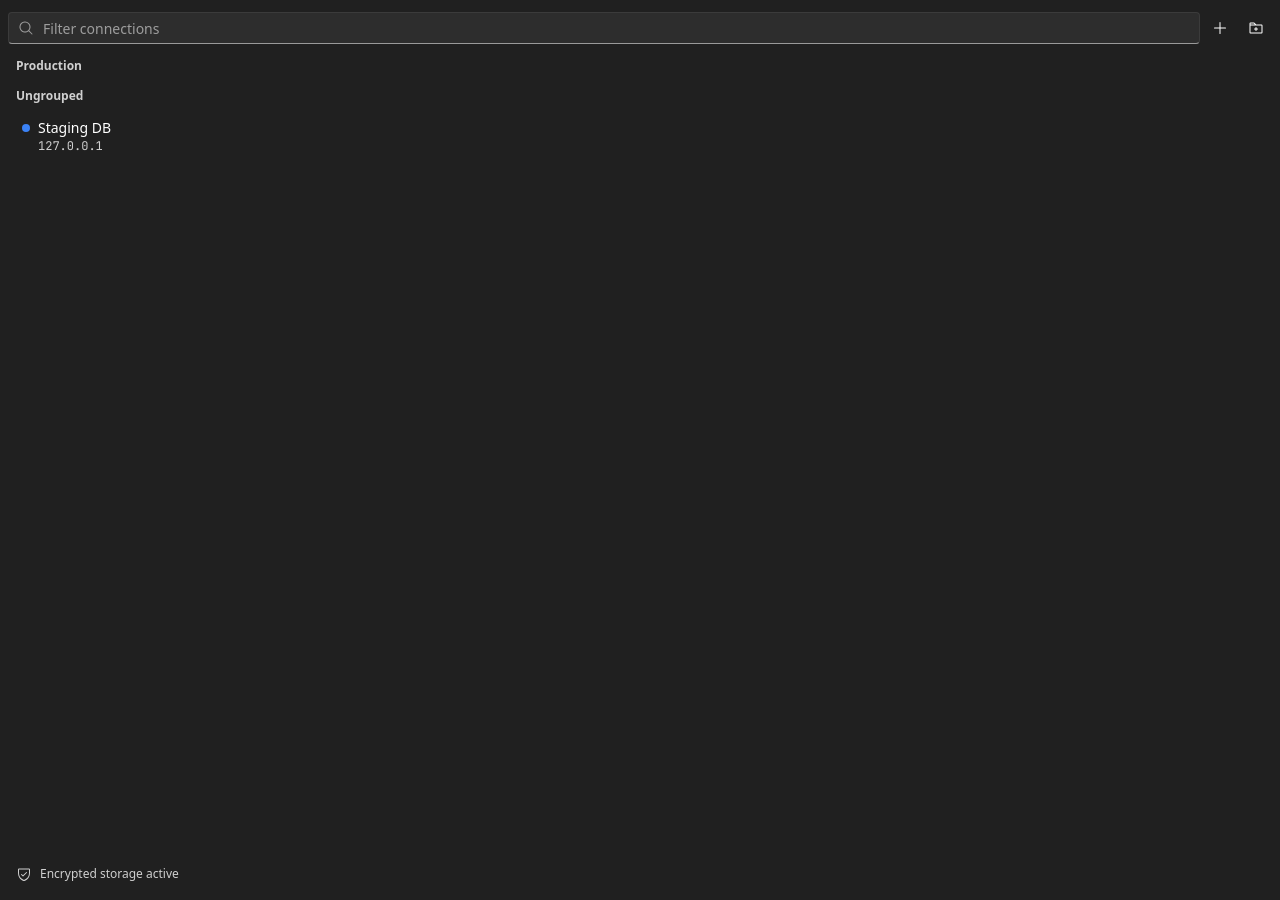
SavedConnectionsList › quick filter › hides empty named groups while filtering
This screenshot has width=1280, height=900.
Expected: the text "Production" is shown, [16, 58, 82, 74]
Type "staging" into the field with test id "connection-filter-input".
click(604, 28); type("staging")  # box [8, 12, 1200, 44]
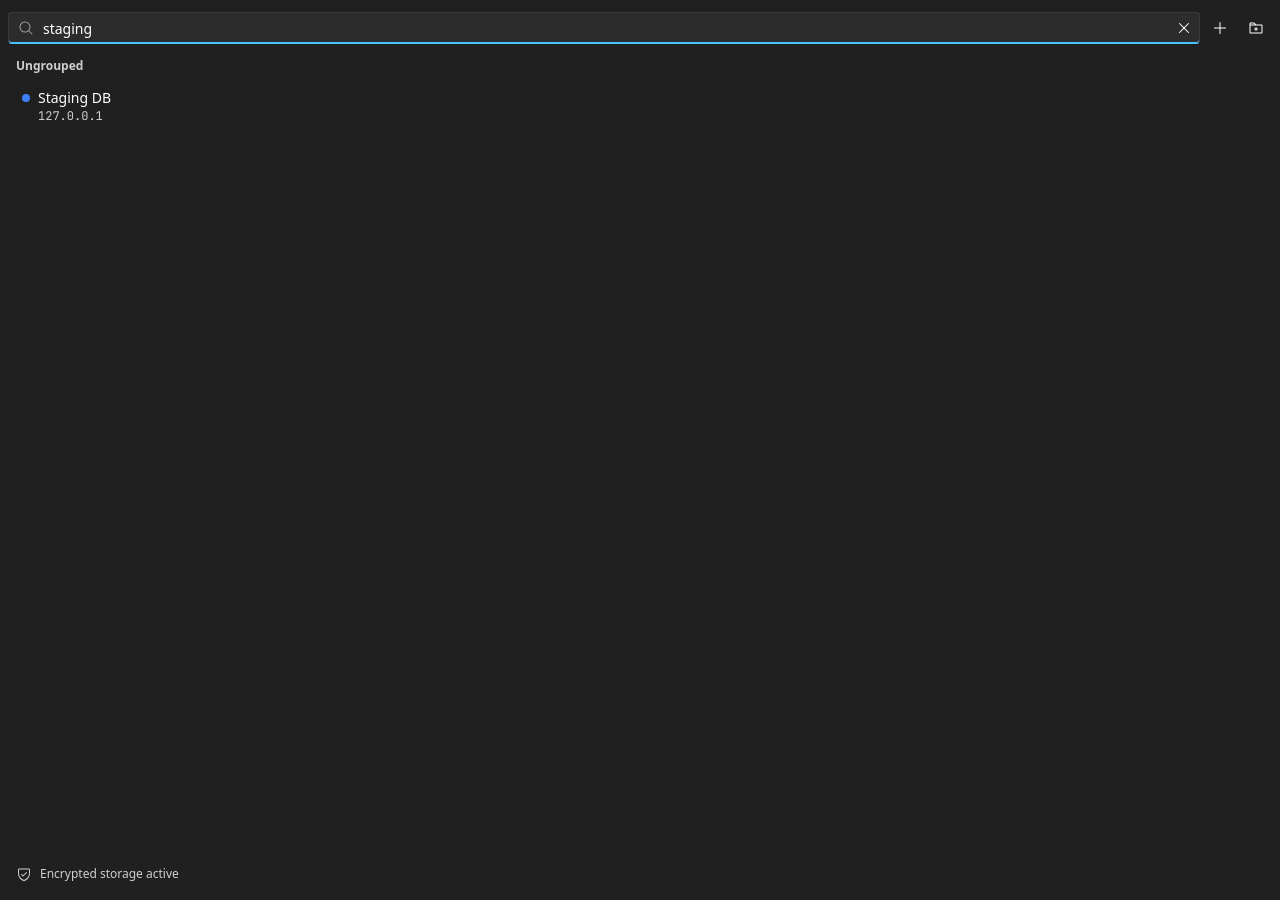
Expected: the text "Staging DB" is shown, [38, 88, 111, 108]
Expected: the text "Production" is gone
